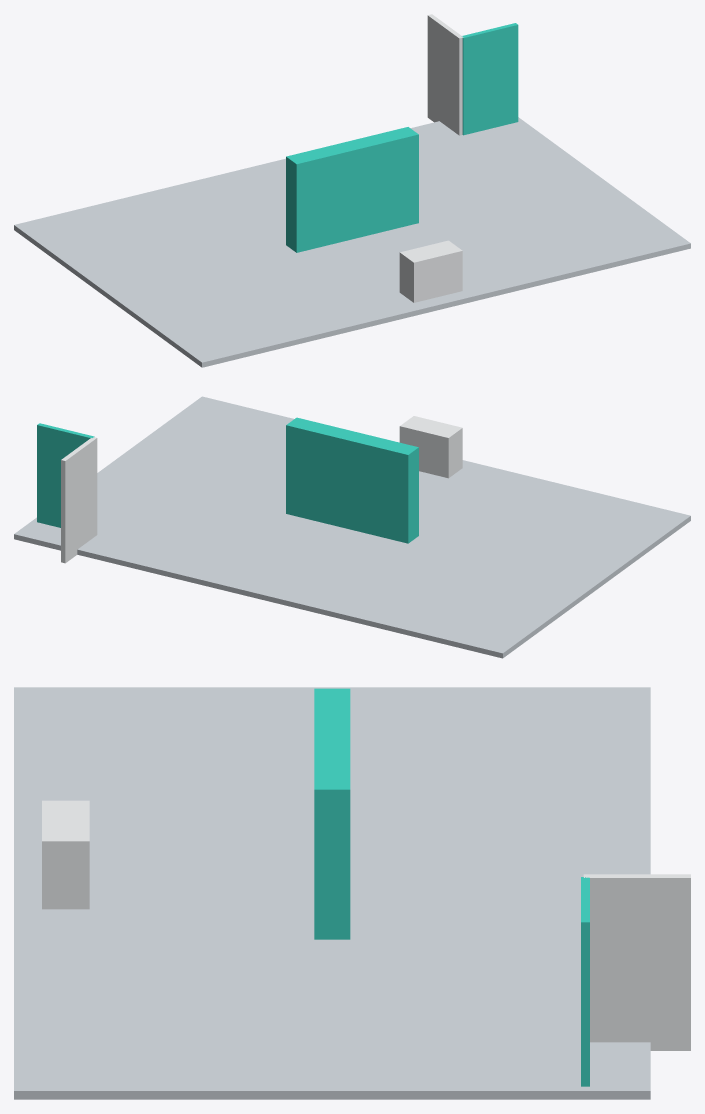
The picture shows the model from 3 angles, top to bottom: view 1: azimuth 30°, elevation 25°; view 2: azimuth 150°, elevation 25°; view 3: azimuth 270°, elevation 25°; orthographic projection. The views are drawn at different scales.
Visible parts, largest first — view 1: Exhibition Booth Concept; view 2: Exhibition Booth Concept; view 3: Exhibition Booth Concept.
Part boxes in pixels (x1,y1,x2,y2): Exhibition Booth Concept: [14, 14, 690, 367]; Exhibition Booth Concept: [14, 396, 690, 658]; Exhibition Booth Concept: [14, 687, 690, 1099].
Bounding box in the file's own units: 12 × 2.4 × 8.51.
